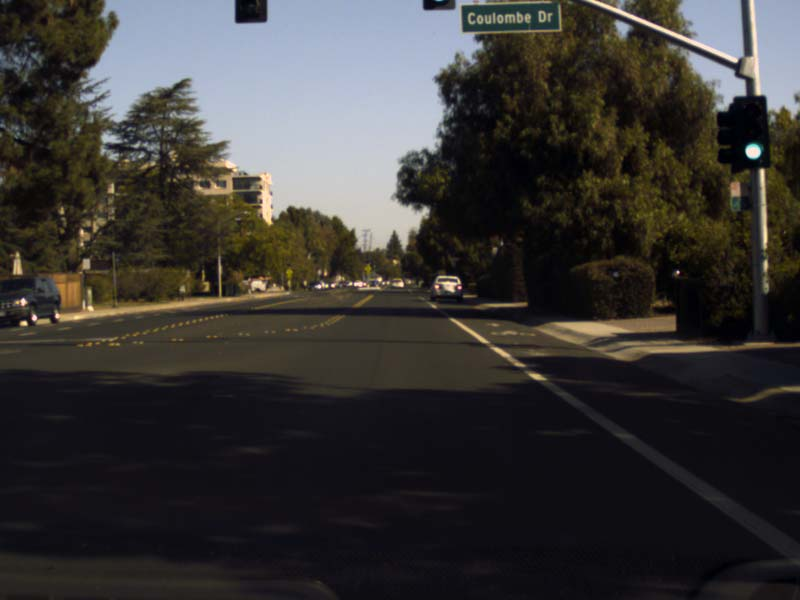Green: (733, 96, 766, 165)
